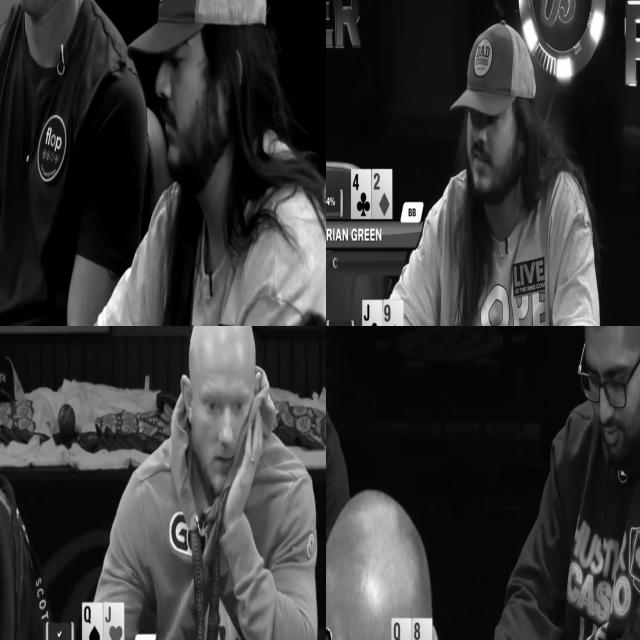2D: (373, 169, 392, 219)
4C: (352, 169, 371, 219)
8H: (412, 619, 431, 640)
9D: (383, 299, 403, 326)
JC: (362, 300, 381, 326)
JH: (104, 603, 123, 640)
QH: (391, 618, 411, 640)
QS: (82, 603, 102, 640)
